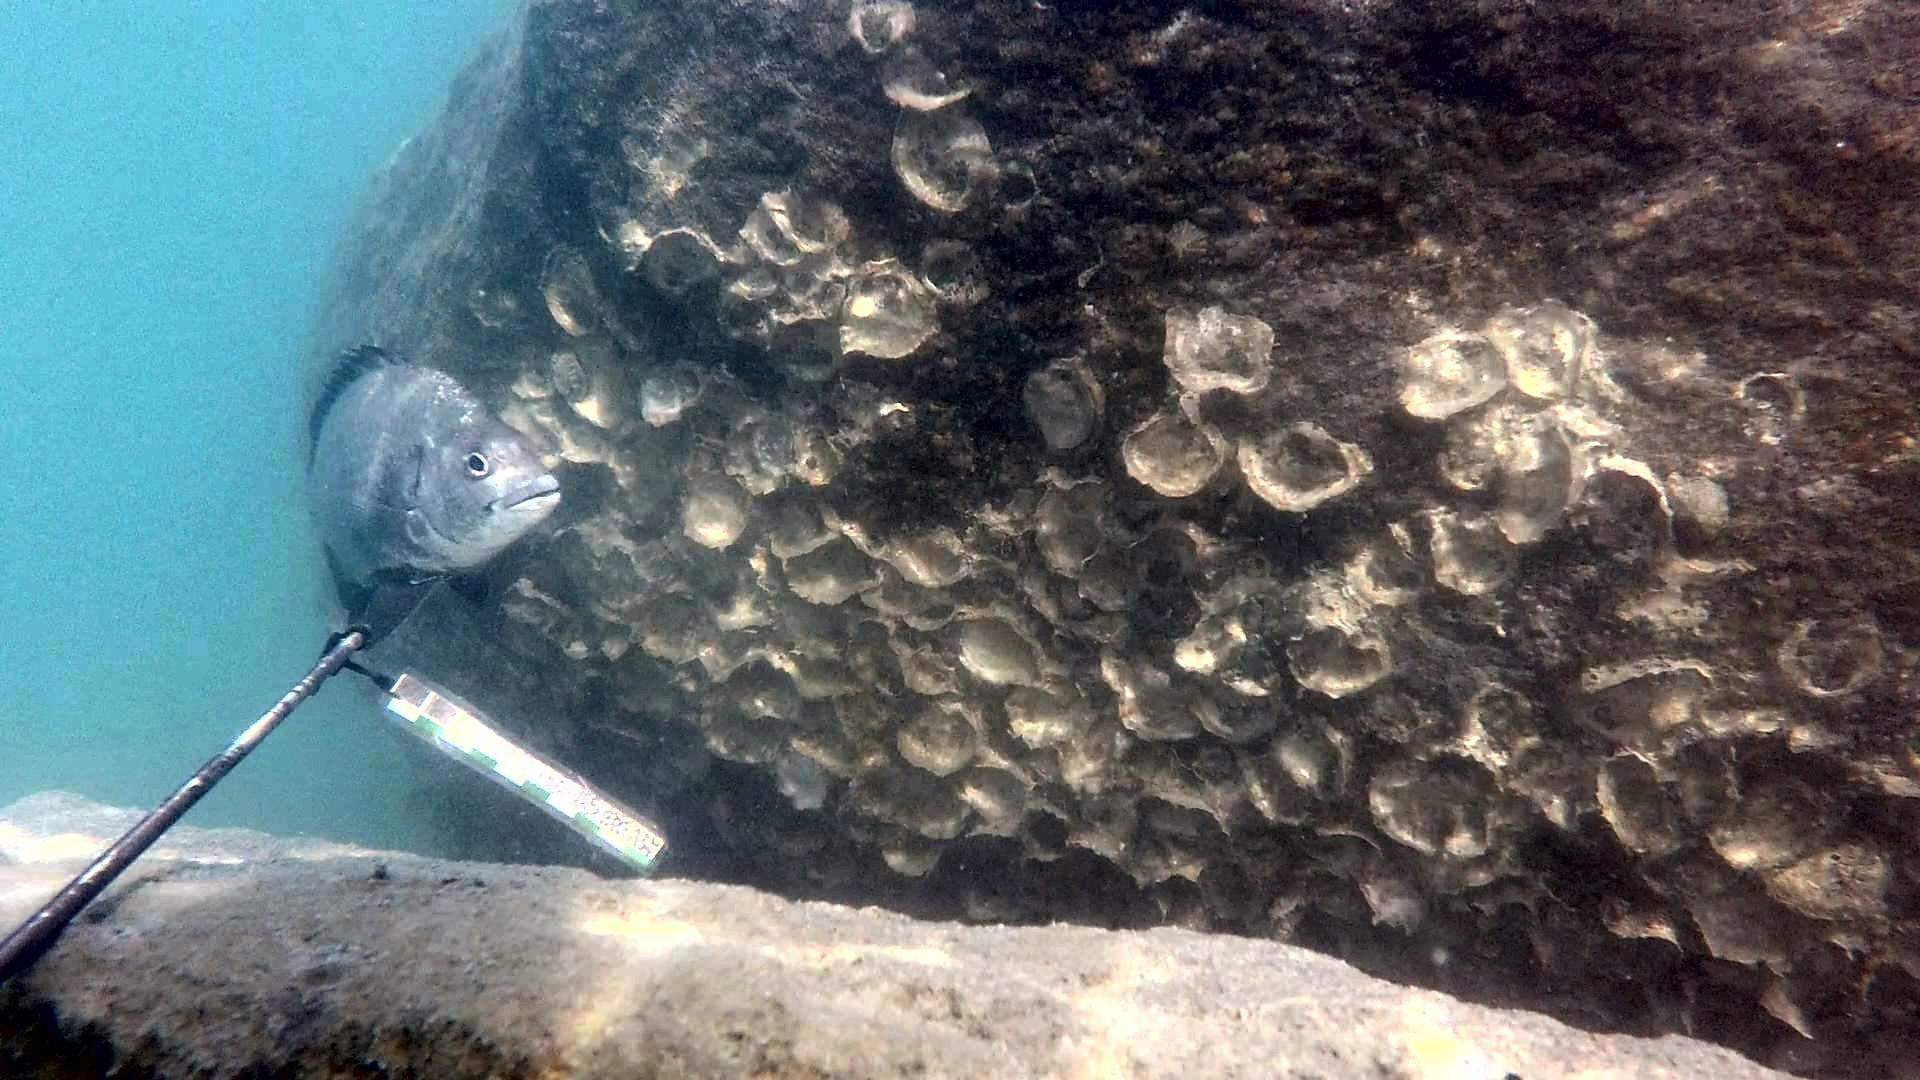acanthopagrus palmaris: (277, 335, 567, 653)
